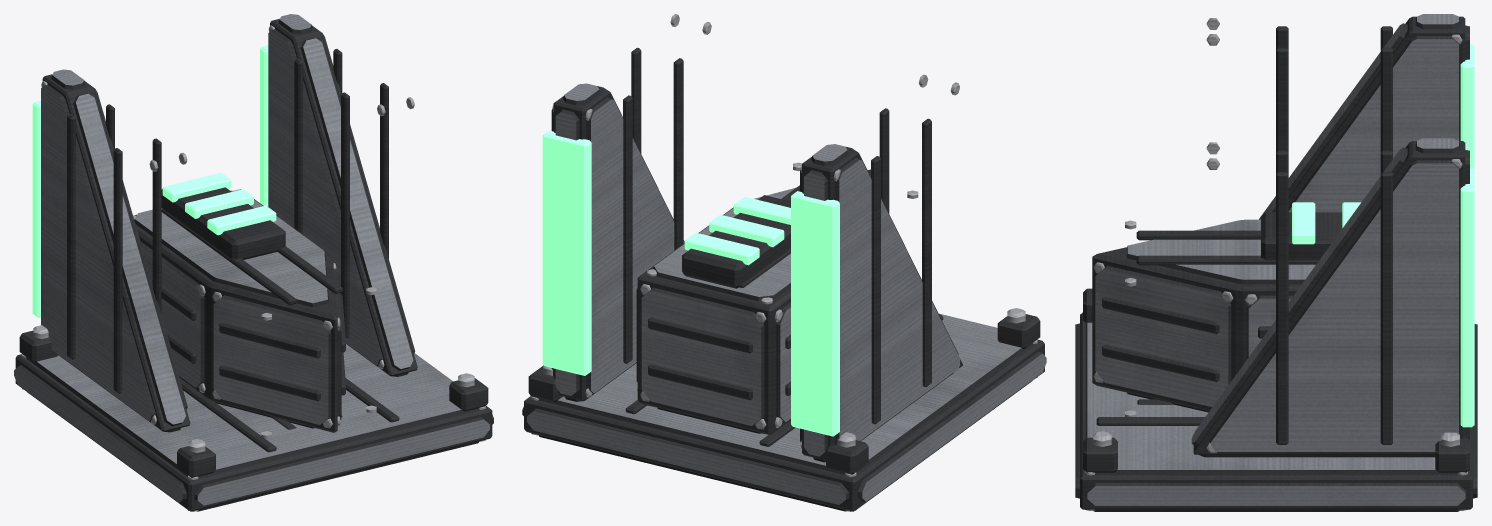
File: R4X_MobilityBooster.glb
3 views of the same model, side by side, from view 1: azimuth 30°, elevation 25°; view 2: azimuth 150°, elevation 25°; view 3: azimuth 270°, elevation 25° (orthographic). The views are drawn at different scales.
Visible parts, largest first — view 1: R4X_MobilityBooster_Body; view 2: R4X_MobilityBooster_Body; view 3: R4X_MobilityBooster_Body.
Part boxes in pixels (left/top/right/bottom): R4X_MobilityBooster_Body: left=14, top=14, right=493, bottom=511; R4X_MobilityBooster_Body: left=522, top=14, right=1046, bottom=511; R4X_MobilityBooster_Body: left=1075, top=14, right=1477, bottom=511.
Size of the model in its own units: 0.52 by 0.5 by 0.52.
4 materials, 3 textured.
